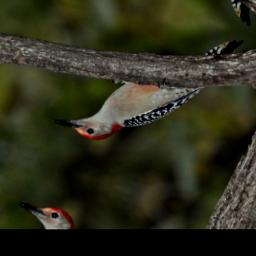Woodpecker: (49, 0, 245, 172)
